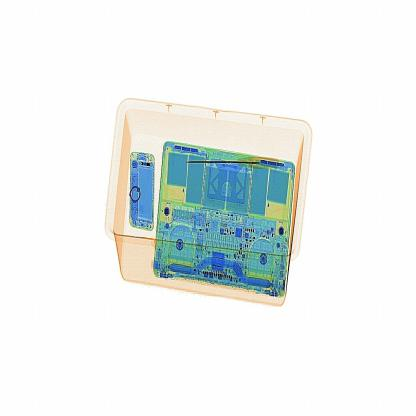wrench: (180, 150, 290, 174)
